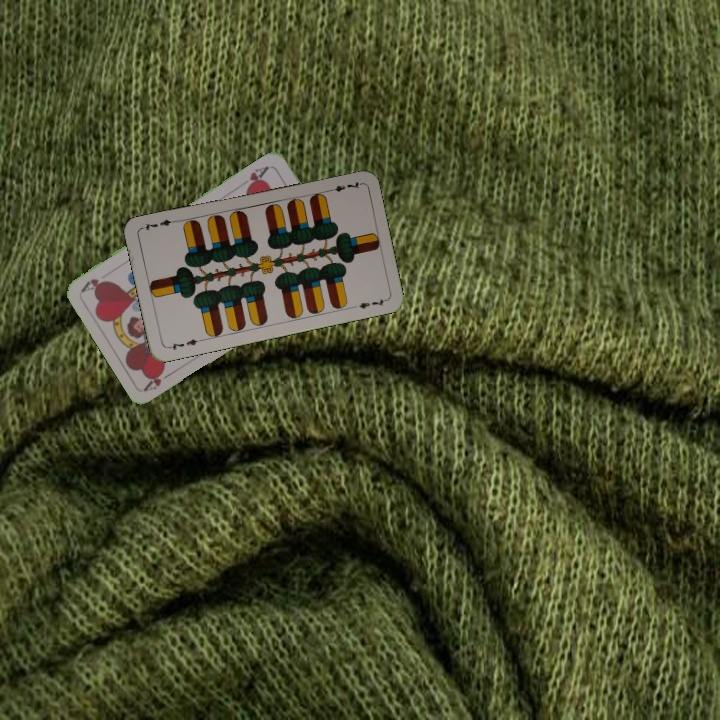E7: (164, 335, 204, 352), (323, 178, 363, 195)
HA: (236, 162, 272, 193), (141, 365, 178, 393)
